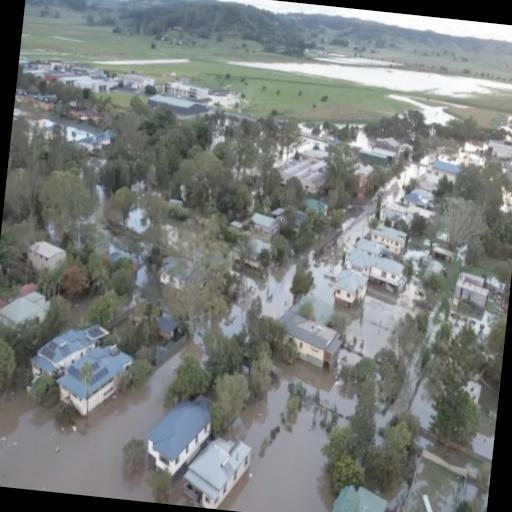flood: (220, 152, 446, 367), (0, 334, 202, 503), (217, 362, 358, 512), (377, 345, 500, 512), (211, 61, 512, 123), (84, 180, 205, 298), (35, 118, 113, 152), (295, 124, 341, 157), (207, 90, 256, 119), (91, 58, 190, 65), (354, 130, 371, 148), (211, 131, 223, 146)
house: (47, 334, 139, 434), (138, 394, 214, 492), (176, 427, 252, 512), (34, 326, 101, 379), (288, 314, 342, 376), (0, 285, 49, 352), (322, 477, 391, 512), (26, 239, 70, 291), (454, 269, 494, 313), (330, 268, 370, 308), (368, 218, 408, 256), (244, 208, 280, 248), (371, 256, 405, 286), (168, 82, 208, 103)
